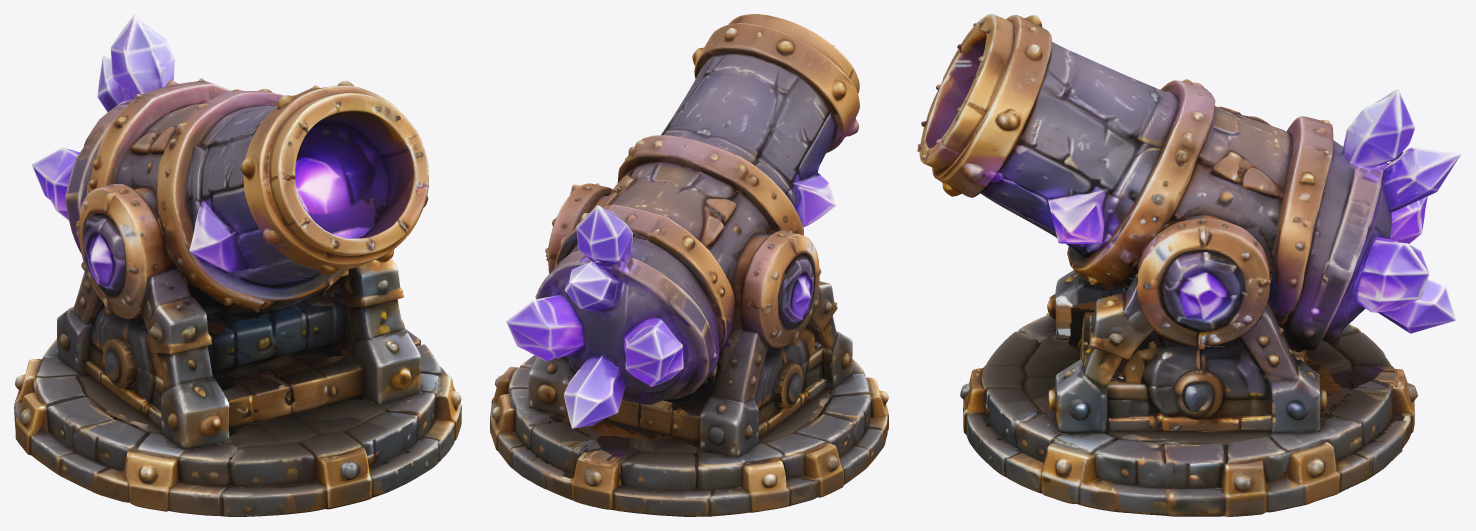
Rendered from base_basic_shaded.glb.
3 views of the same model, side by side, from view 1: azimuth 30°, elevation 25°; view 2: azimuth 150°, elevation 25°; view 3: azimuth 270°, elevation 25° (orthographic). The views are drawn at different scales.
Parts seen in each view (by area): view 1: model; view 2: model; view 3: model.
Part boxes in pixels (<box>): model: <box>14,14,461,516</box>; model: <box>490,14,888,516</box>; model: <box>917,14,1461,516</box>.
Size of the model in its own units: 1.56 by 1.56 by 1.91.
Materials: 1 (1 with a texture image).
